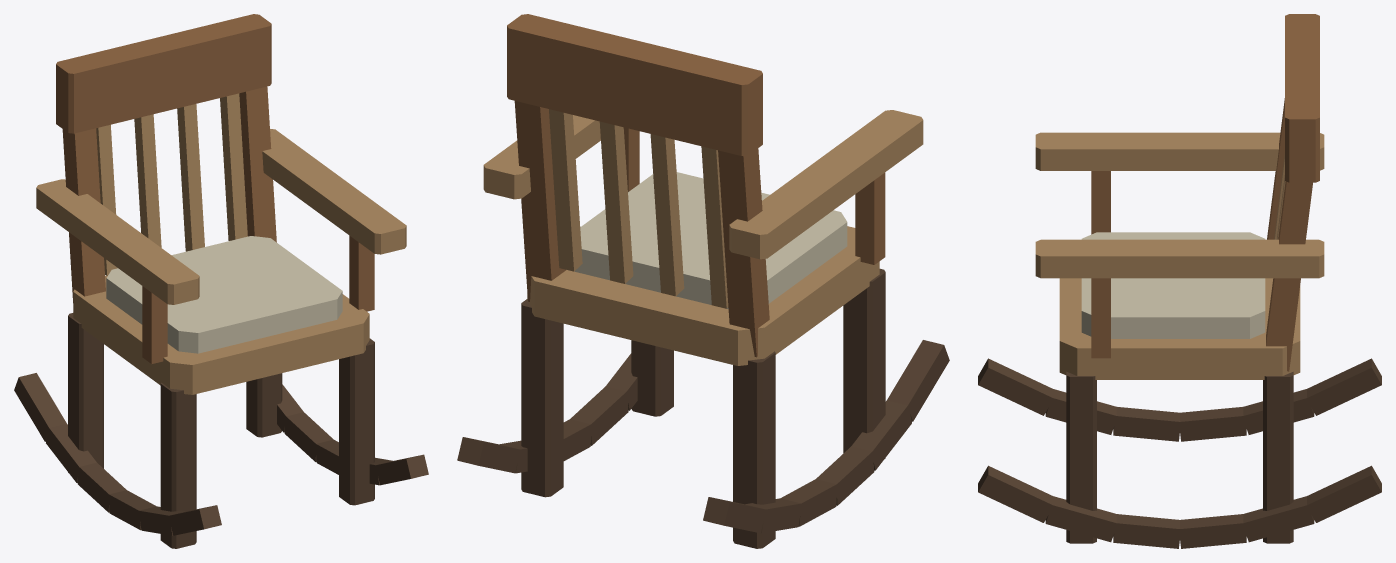
The model's file is chair_rocking.glb.
The picture shows the model from 3 angles, left to right: view 1: azimuth 30°, elevation 25°; view 2: azimuth 150°, elevation 25°; view 3: azimuth 270°, elevation 25°; orthographic projection. The views are drawn at different scales.
Visible parts, largest first — view 1: geometry; view 2: geometry; view 3: geometry.
Part boxes in pixels (box(x1,y1,x2,y2)): geometry: box(14, 14, 428, 548); geometry: box(457, 14, 949, 548); geometry: box(978, 14, 1381, 548).
Size of the model in its own units: 0.67 by 1.07 by 0.923.
